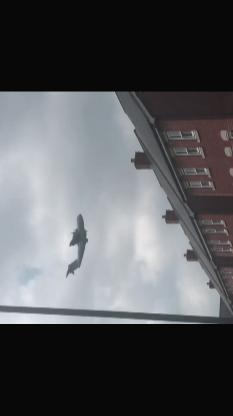A400M: (64, 214, 86, 278)
